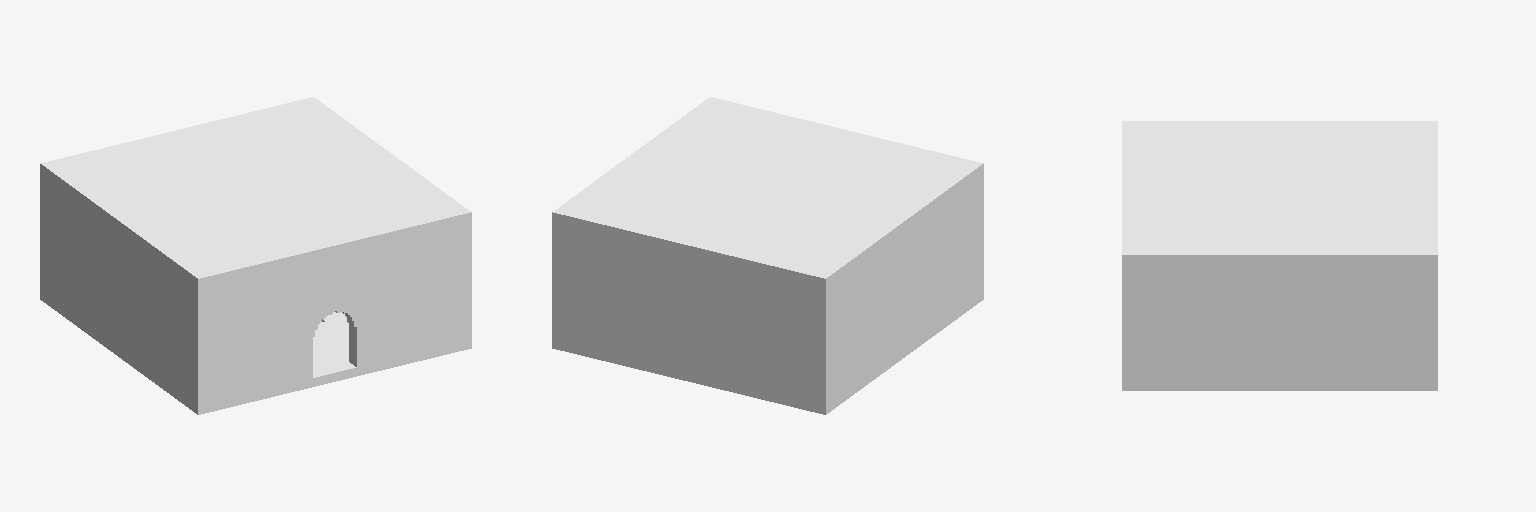
Rendered from area3.obj.
3 views of the same model, side by side, from view 1: azimuth 30°, elevation 25°; view 2: azimuth 150°, elevation 25°; view 3: azimuth 270°, elevation 25° (orthographic).
Size of the model in its own units: 126 by 60 by 126.